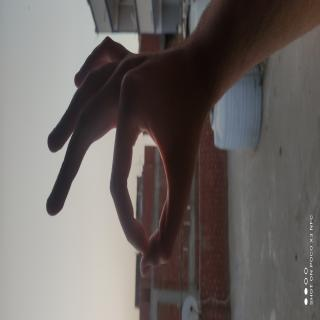Space: (19, 87, 134, 320)
